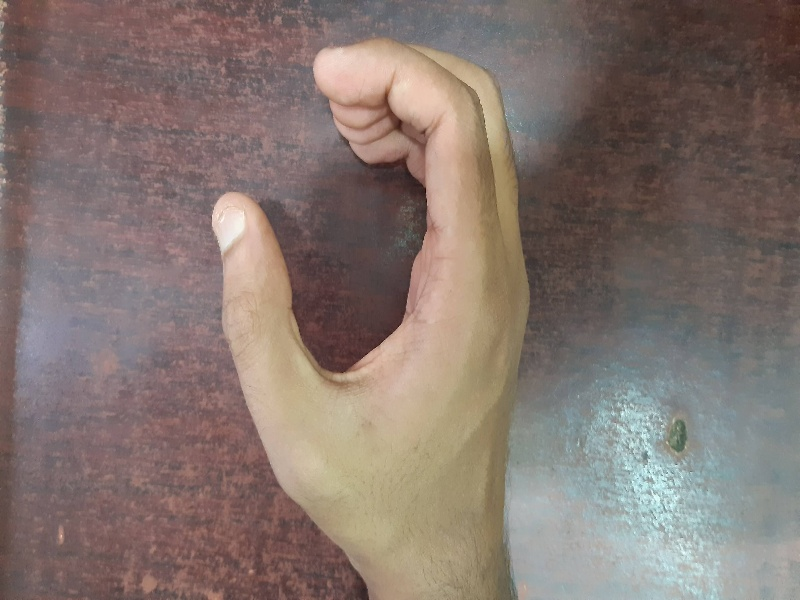one: (189, 26, 562, 560)
